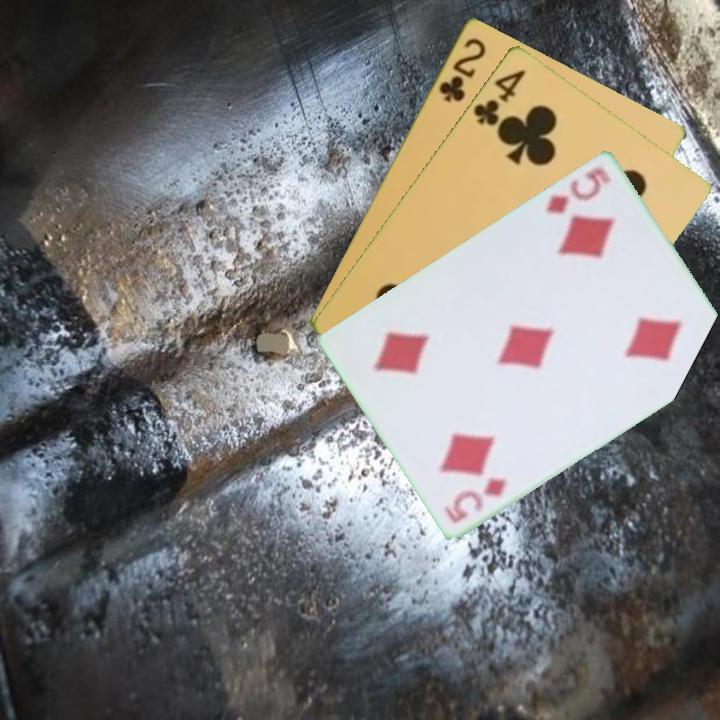2c: (434, 33, 489, 105)
4c: (469, 65, 529, 129)
5d: (541, 164, 614, 216), (441, 473, 509, 525)
